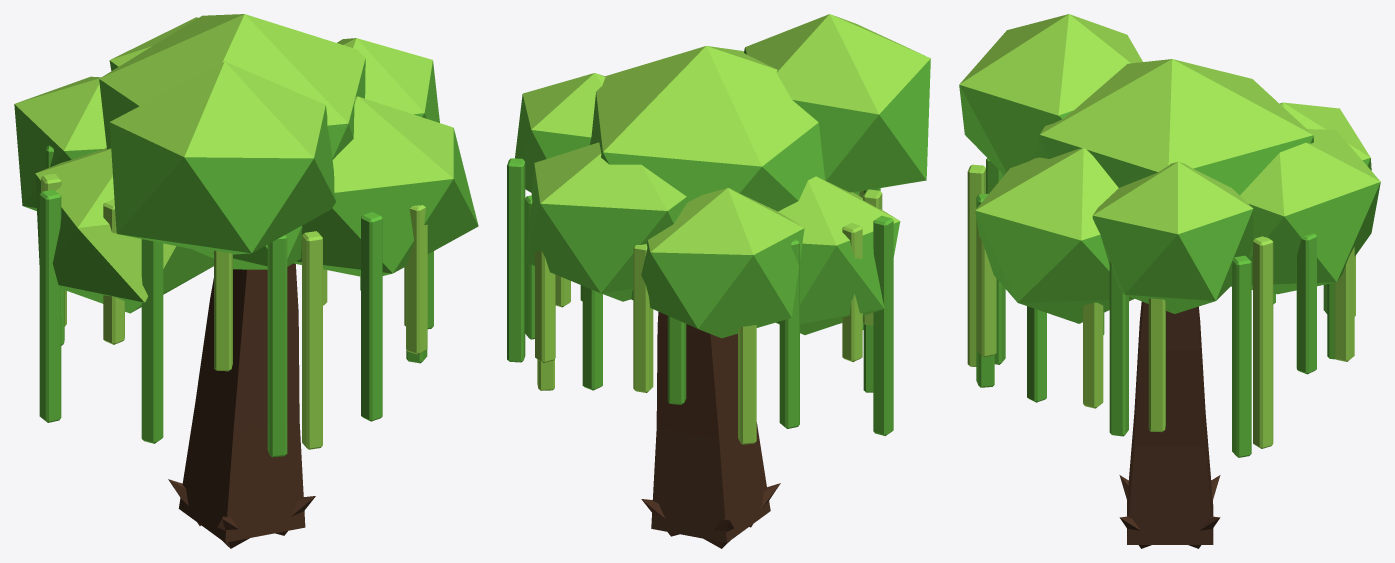
The model's file is WillowTree.fbx.
The picture shows the model from 3 angles, left to right: view 1: azimuth 30°, elevation 25°; view 2: azimuth 150°, elevation 25°; view 3: azimuth 270°, elevation 25°; orthographic projection. The views are drawn at different scales.
Visible parts, largest first — view 1: WillowTree; view 2: WillowTree; view 3: WillowTree.
Part boxes in pixels (bbox=[...]): WillowTree: bbox=[14, 14, 478, 548]; WillowTree: bbox=[507, 14, 930, 548]; WillowTree: bbox=[959, 14, 1380, 548].
Bounding box in the file's own units: 8.89 × 11.46 × 8.94.
Materials: 1 (1 with a texture image).
